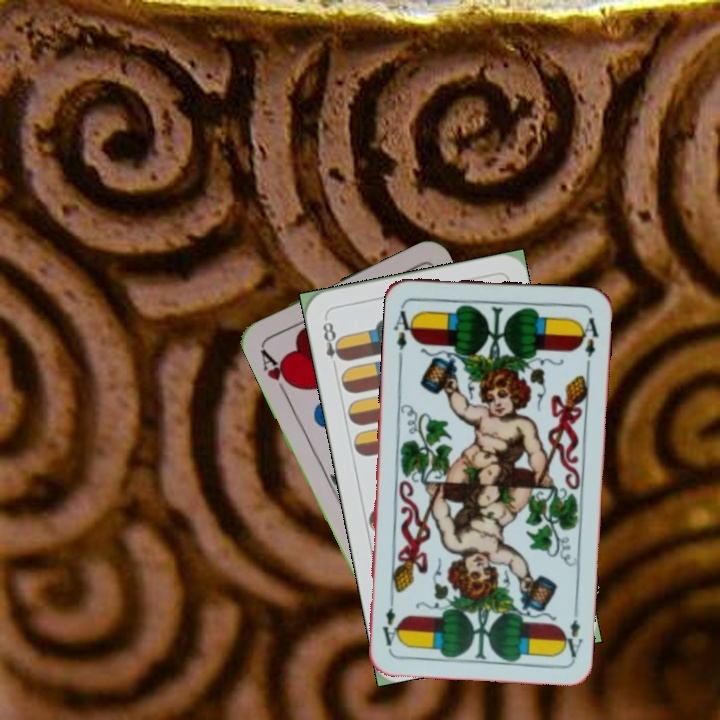E8: (319, 313, 347, 372)
EA: (390, 301, 418, 360), (558, 601, 586, 660)
HA: (256, 342, 298, 398)
